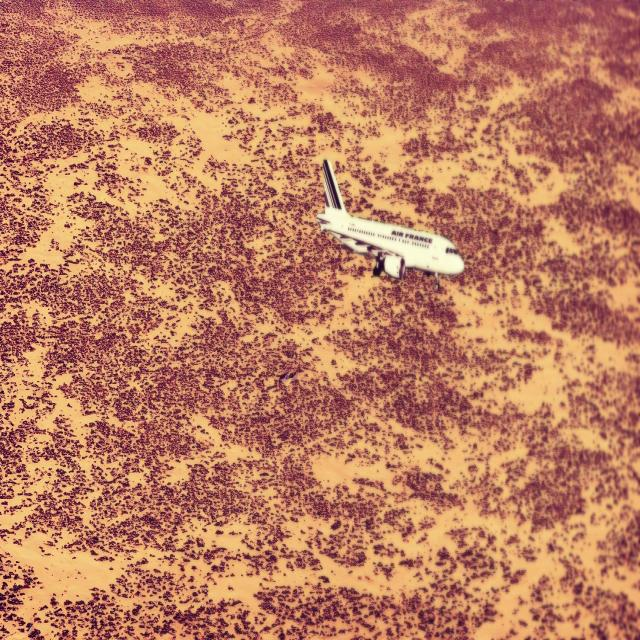airplane: (315, 158, 465, 290)
